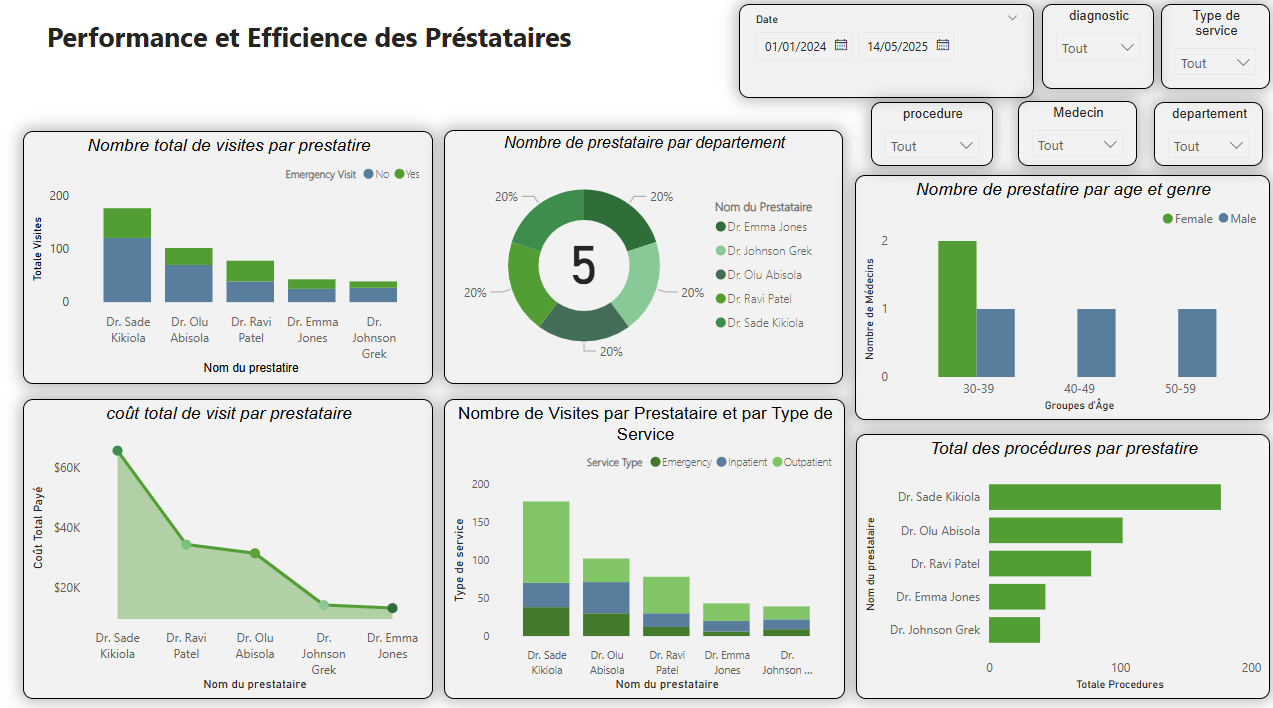

The page's visual inventory and layout, read from the dashboard file:
{"tool":"powerbi","page":{"name":"Préstataires","canvas":[1280,720],"ordinal":8},"visuals":[{"type":"slicer","fields":{"Values":["visits.Date of Visit"]},"box":[742,6.1,295.3,93.9],"z":0},{"type":"textbox","box":[25.7,15.1,572.4,68.1],"z":1000},{"type":"columnChart","title":"Nombre total de visites par prestatire","fields":{"Y":["visits.Total Visits by Provider"],"Category":["providers.Provider Name"],"Series":["visits.Emergency Visit"]},"box":[25.7,133.3,410.3,252.9],"z":2000},{"type":"donutChart","title":"Nombre de prestataire par departement","fields":{"Category":["providers.Provider Name"],"Y":["visits.Nombre de Prestataires par Département"]},"box":[446.7,131.7,399.8,254.4],"z":3000},{"type":"areaChart","title":"coût total de visit par prestataire","fields":{"Category":["providers.Provider Name"],"Y":["visits.Coût Total Payé par Prestataire"]},"box":[25.7,401.3,410.3,299.8],"z":4000},{"type":"lineClusteredColumnComboChart","title":"Nombre de prestatire par age et genre","fields":{"Y":["providers.Nombre de Médecins"],"Series":["providers.Gender"],"Category":["providers.Groupes d'Âge"]},"box":[858.2,177.2,415.2,244.3],"z":5000},{"type":"slicer","title":"departement","fields":{"Values":["departments.Department"]},"box":[1156.9,104.5,109,63.6],"z":6000},{"type":"barChart","title":"Total des procédures par prestatire","fields":{"Category":["providers.Provider Name"],"Y":["visits.Total Procedures"]},"box":[858.6,436.1,414.9,265],"z":7000},{"type":"slicer","title":"procedure","fields":{"Values":["procedures.Procedure"]},"box":[873.7,104.5,122.7,63.6],"z":8000},{"type":"columnChart","title":"Nombre de Visites par Prestataire et par Type de Service","fields":{"Category":["providers.Provider Name"],"Y":["CountNonNull(visits.Service Type)"],"Series":["visits.Service Type"]},"box":[446.7,401.3,401.3,299.8],"z":9000},{"type":"slicer","title":"Type de service","fields":{"Values":["visits.Service Type"]},"box":[1164.4,6.1,109,84.8],"z":10000},{"type":"slicer","title":"diagnostic","fields":{"Values":["diagnoses.Diagnosis"]},"box":[1044.8,6.1,112.1,84.8],"z":11000},{"type":"slicer","title":"Medecin","fields":{"Values":["providers.Provider Name"]},"box":[1020.6,103,119.6,65.1],"z":12000},{"type":"card","fields":{"Values":["providers.Nombre de Médecins"]},"box":[543.6,226,83.9,68.4],"z":13000}]}

Visuals, with their boxes in screenshot pixels (x1, y1, x2, y2), scaled from the page's 1280x720 canvas onto the 1273x708 screenshot:
slicer - visits.Date of Visit: box(738, 6, 1032, 98)
textbox: box(26, 15, 595, 82)
"Nombre total de visites par prestatire" columnChart: box(26, 131, 434, 380)
"Nombre de prestataire par departement" donutChart: box(444, 130, 842, 380)
"coût total de visit par prestataire" areaChart: box(26, 395, 434, 689)
"Nombre de prestatire par age et genre" lineClusteredColumnComboChart: box(854, 174, 1266, 414)
"departement" slicer: box(1151, 103, 1259, 165)
"Total des procédures par prestatire" barChart: box(854, 429, 1267, 689)
"procedure" slicer: box(869, 103, 991, 165)
"Nombre de Visites par Prestataire et par Type de Service" columnChart: box(444, 395, 843, 689)
"Type de service" slicer: box(1158, 6, 1266, 89)
"diagnostic" slicer: box(1039, 6, 1151, 89)
"Medecin" slicer: box(1015, 101, 1134, 165)
card - providers.Nombre de Médecins: box(541, 222, 624, 289)
